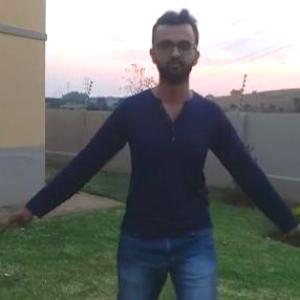land: (15, 10, 299, 299)
